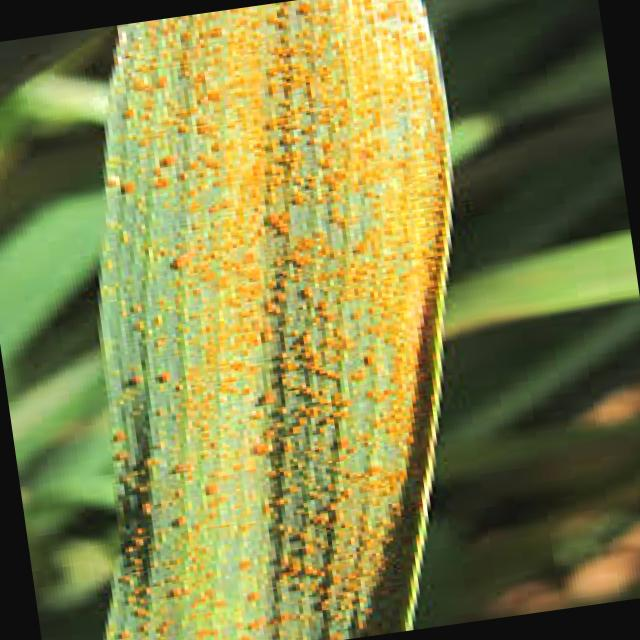leaf_rust: (104, 0, 452, 640)
